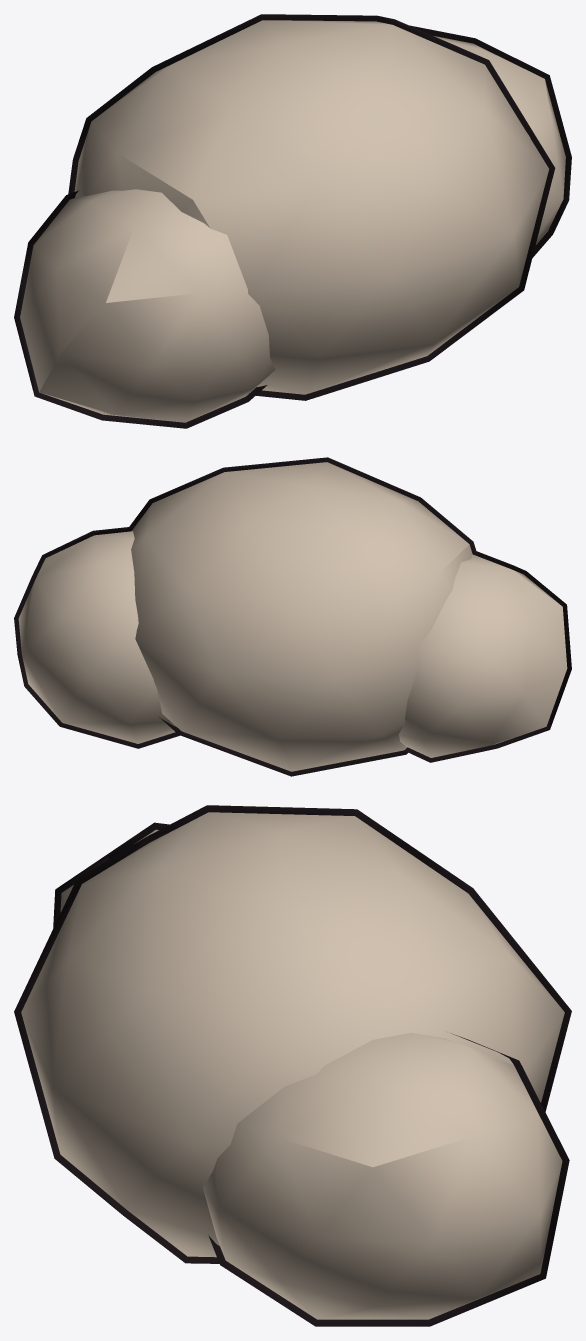
Rendered from SM_Bush_01.fbx.
3 views of the same model, one above another, from view 1: azimuth 30°, elevation 25°; view 2: azimuth 150°, elevation 25°; view 3: azimuth 270°, elevation 25° (orthographic). The views are drawn at different scales.
Parts seen in each view (by area): view 1: SM_Bush_01; view 2: SM_Bush_01; view 3: SM_Bush_01.
Boxes of the visible parts, x1,y1,x2,y2 form: SM_Bush_01: (14,14,571,428); SM_Bush_01: (14,457,571,776); SM_Bush_01: (14,805,571,1326).
Size of the model in its own units: 1.79 by 0.9183 by 1.24.
